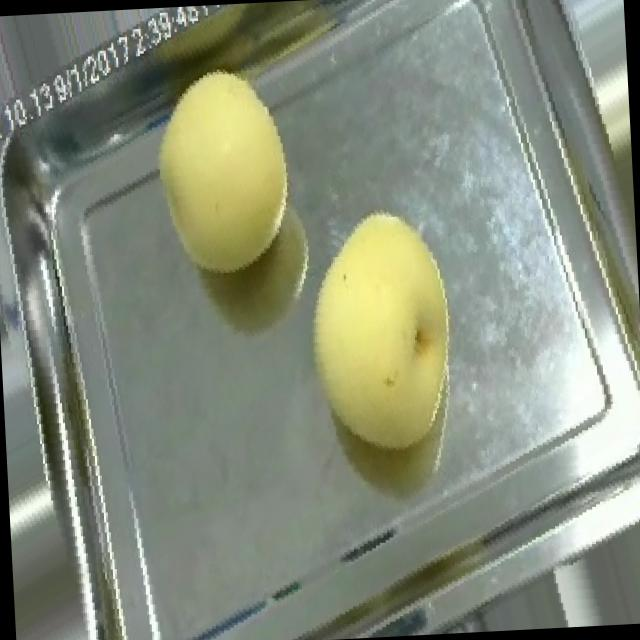Fruit: (277, 182, 494, 480), (132, 47, 322, 294)
